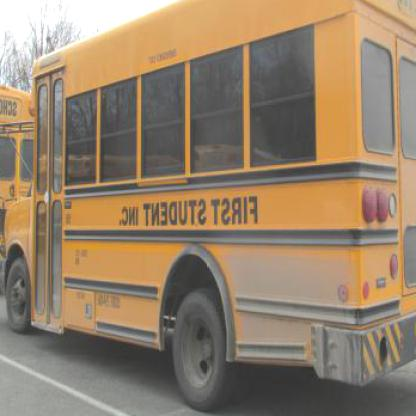bus: (1, 0, 415, 411), (1, 76, 37, 286)
